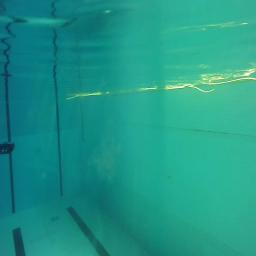Side: (0, 140, 15, 154)
